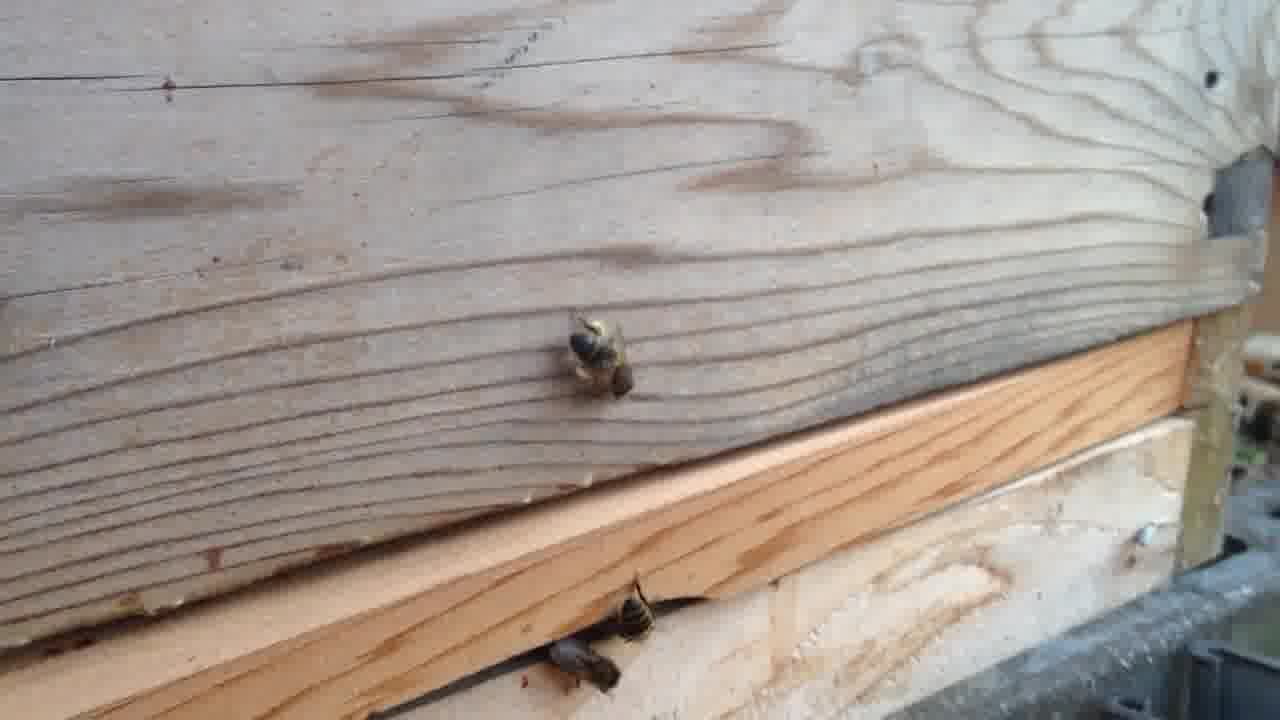pollen: (550, 306, 646, 402)
